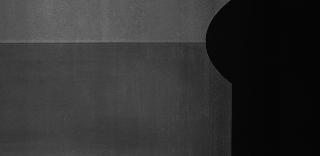welding line: (1, 38, 213, 50)
